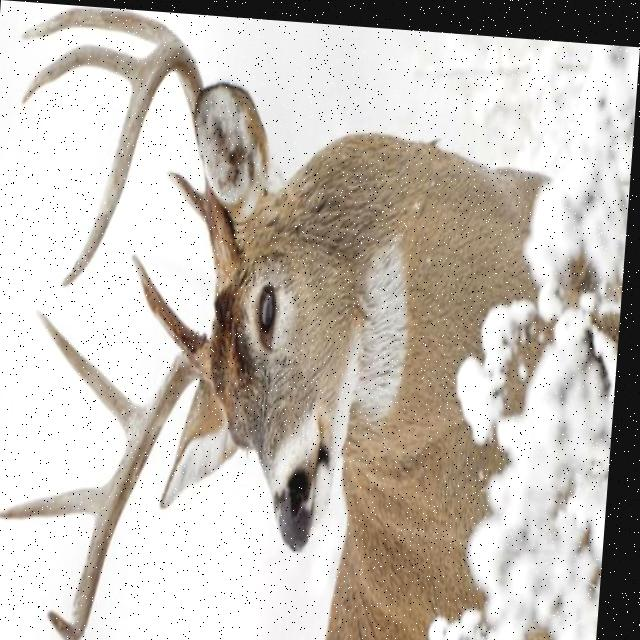L-G1: (166, 166, 208, 218)
L-G2: (19, 5, 173, 42)
L-G3: (21, 42, 147, 106)
R-F: (55, 327, 220, 640)
R-G1: (133, 249, 198, 347)
R-G2: (38, 306, 151, 440)
R-G3: (4, 478, 114, 521)
